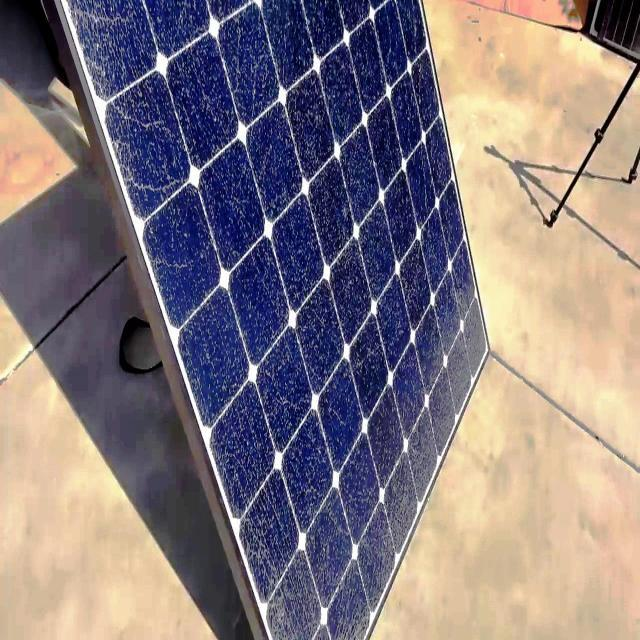faulty: (62, 2, 490, 640)
